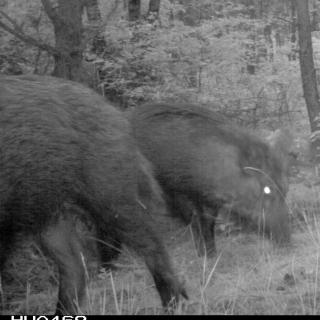Pig: (132, 89, 304, 256)
